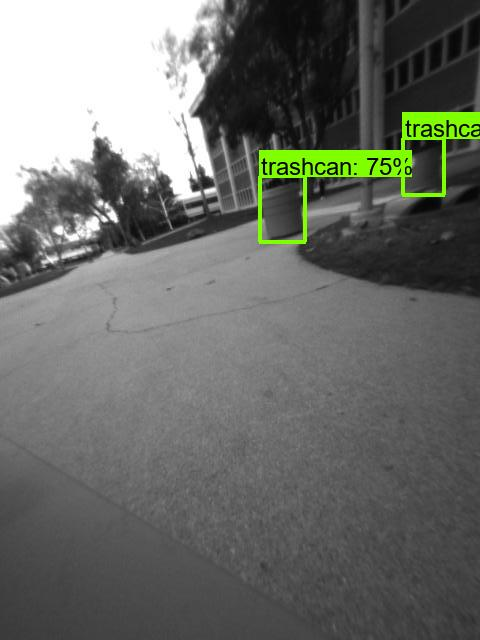trashcan: (259, 181, 305, 242), (403, 137, 447, 197)
